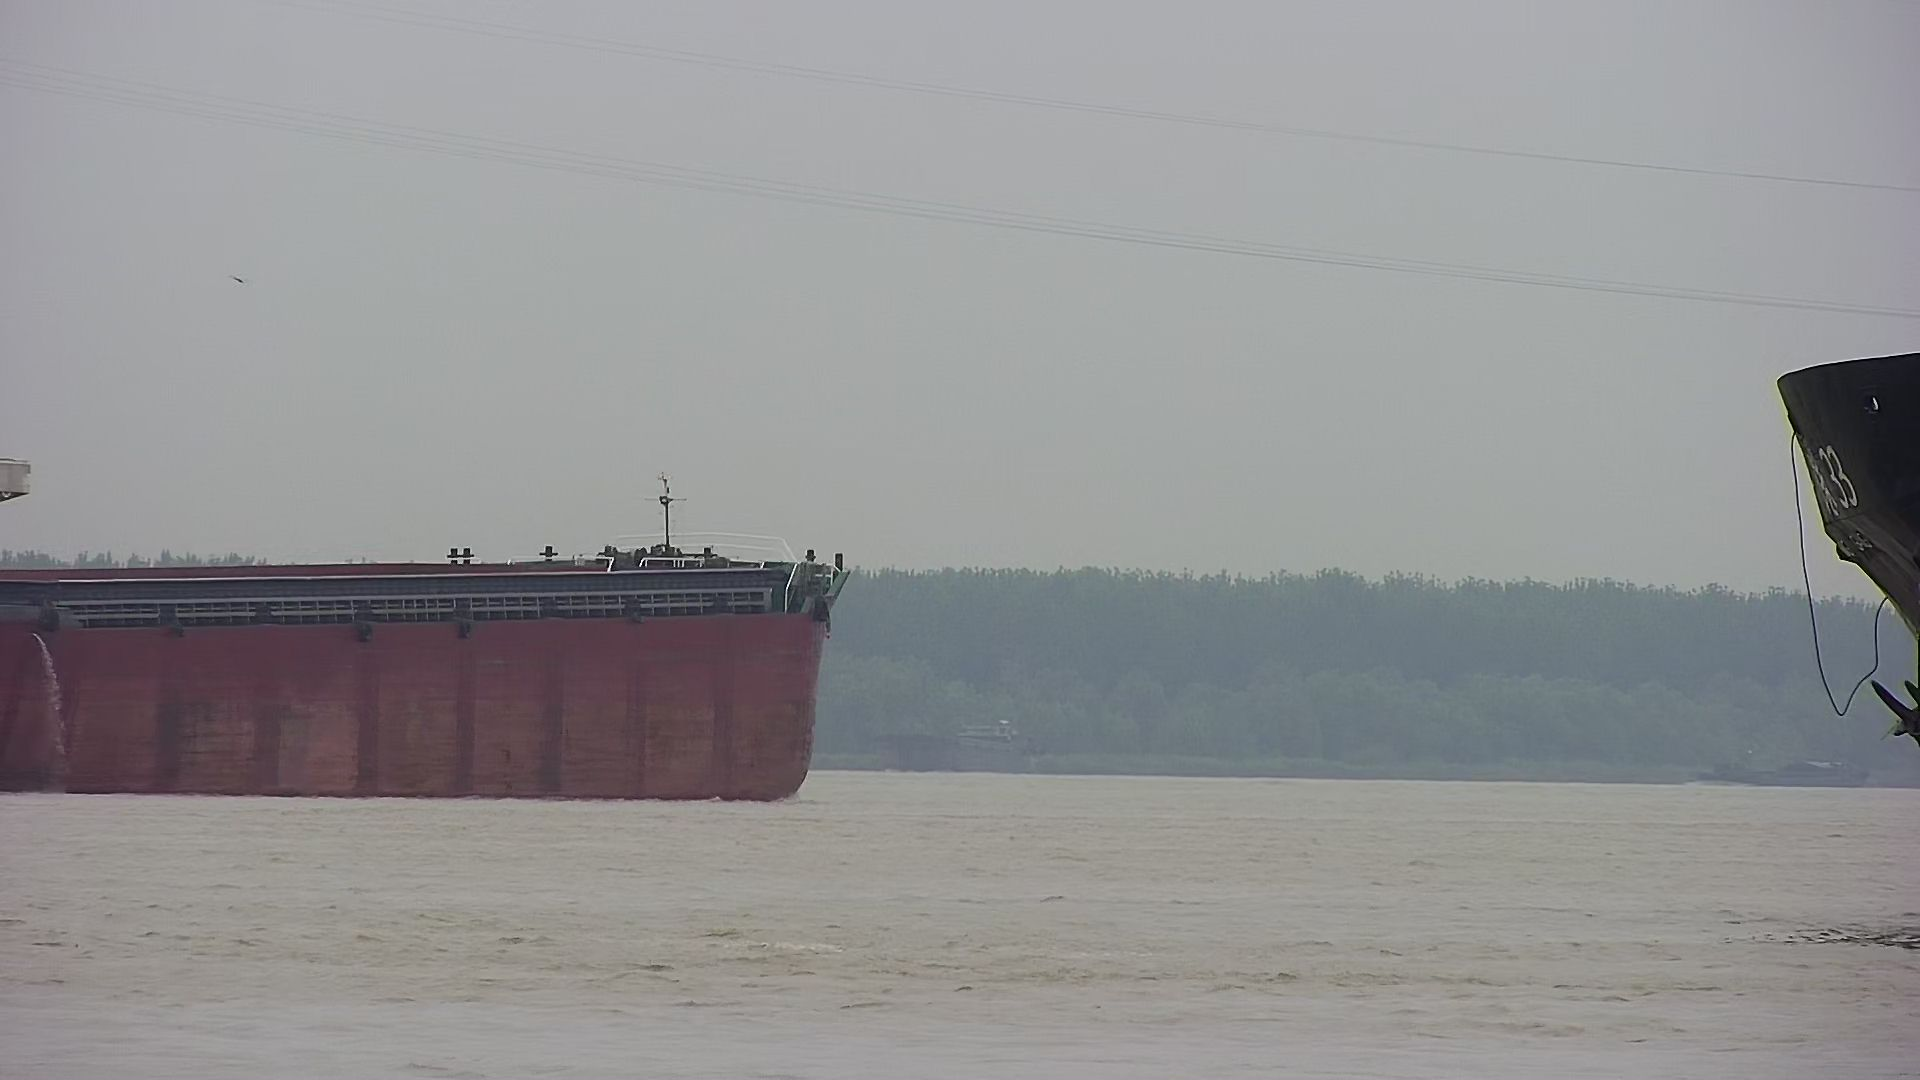ship: (1, 446, 858, 810), (1751, 345, 1920, 935)
